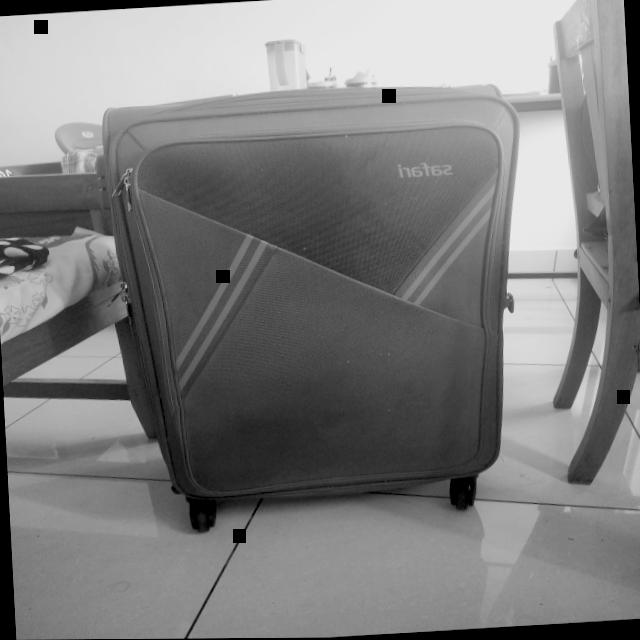luggage: (94, 71, 544, 515)
